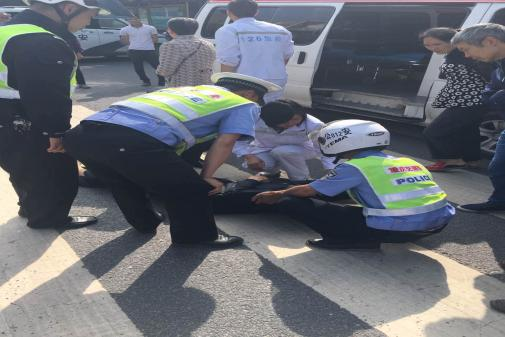fall: (169, 159, 334, 221)
